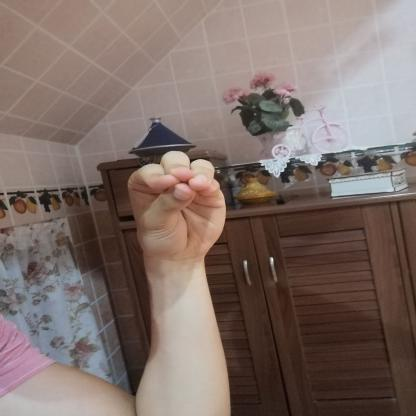HA: (115, 140, 238, 273)
